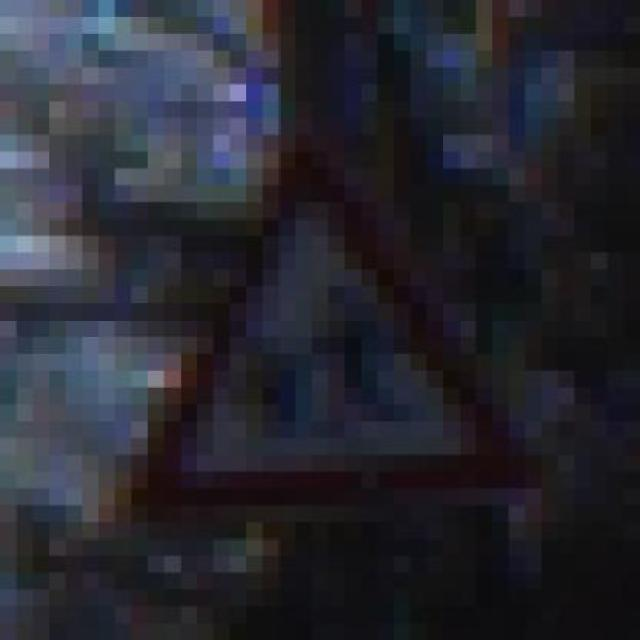Beware of children: (99, 152, 542, 539)
